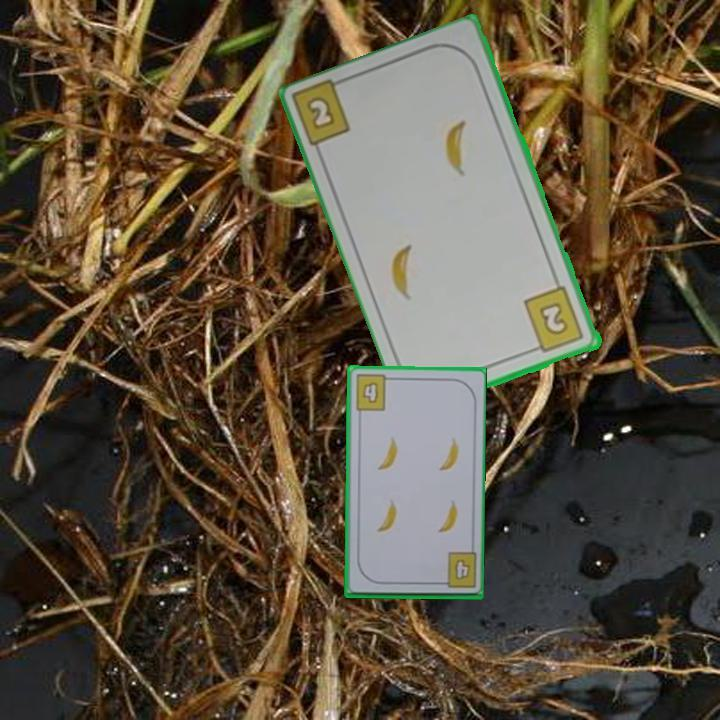2b: (520, 283, 587, 356), (303, 93, 339, 133)
4b: (434, 549, 479, 591), (352, 371, 395, 413)
